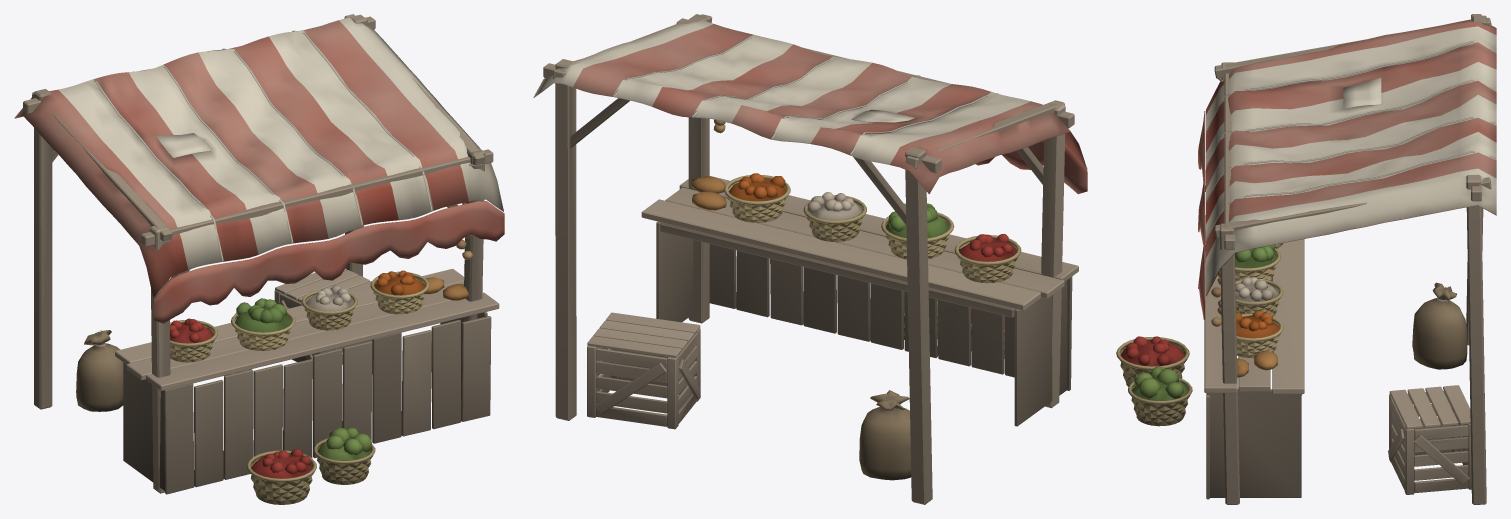
The model's file is stall_produce.glb.
The picture shows the model from 3 angles, left to right: view 1: azimuth 30°, elevation 25°; view 2: azimuth 150°, elevation 25°; view 3: azimuth 270°, elevation 25°; orthographic projection. The views are drawn at different scales.
Parts seen in each view (by area): view 1: stall_produce_cloth, stall_produce; view 2: stall_produce, stall_produce_cloth; view 3: stall_produce_cloth, stall_produce.
Boxes of the visible parts, x1=… form: stall_produce_cloth: x1=14, y1=17, x2=504, y2=323; stall_produce: x1=23, y1=14, x2=499, y2=504; stall_produce: x1=543, y1=14, x2=1078, y2=504; stall_produce_cloth: x1=533, y1=20, x2=1087, y2=194; stall_produce_cloth: x1=1198, y1=19, x2=1496, y2=319; stall_produce: x1=1116, y1=14, x2=1491, y2=504.
Size of what is drawn, in the model's own units: 2.92 by 2.5 by 2.62.
